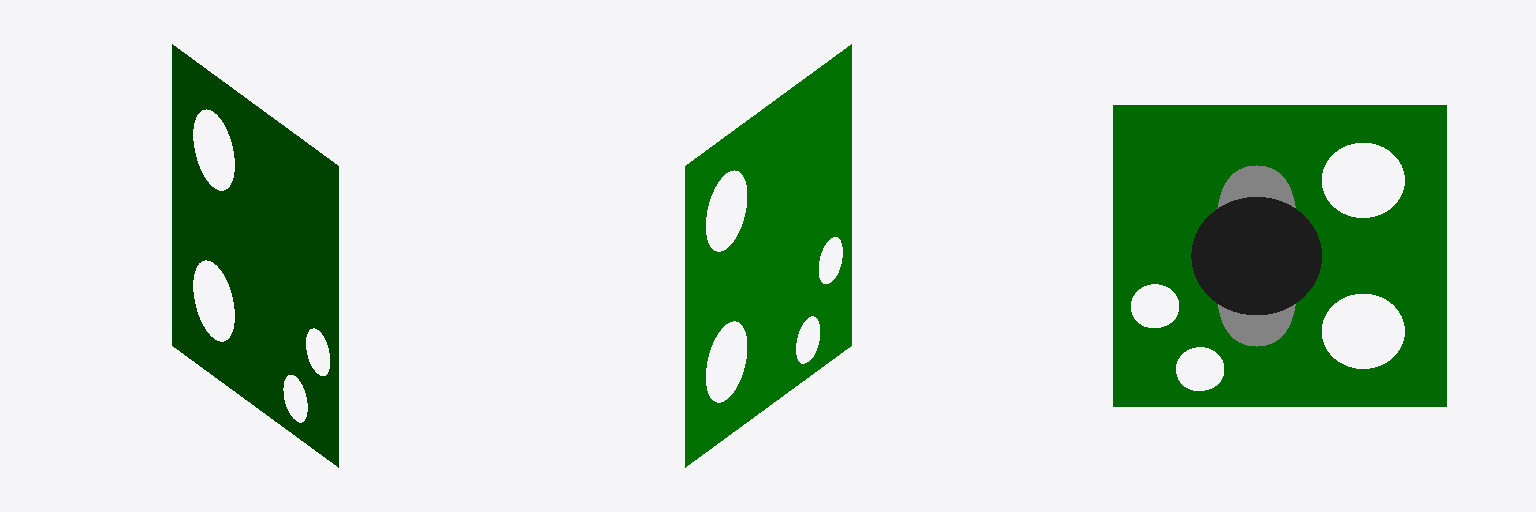
File: shooter2014v2.obj
The picture shows the model from 3 angles: view 1: azimuth 30°, elevation 25°; view 2: azimuth 150°, elevation 25°; view 3: azimuth 270°, elevation 25°; orthographic projection.
Visible parts, largest first — view 1: BezierCircle; view 2: BezierCircle; view 3: BezierCircle, BezierCircle.001, BezierCircle.002_BezierCircle.003.
Part boxes in pixels (x1,y1,x2,y2): BezierCircle: (172,44,338,467); BezierCircle: (685,44,851,467); BezierCircle: (1113,105,1446,406); BezierCircle.001: (1191,197,1321,314); BezierCircle.002_BezierCircle.003: (1217,165,1295,346).
Size of the model in its own units: 0.0025 by 1.22 by 1.22.